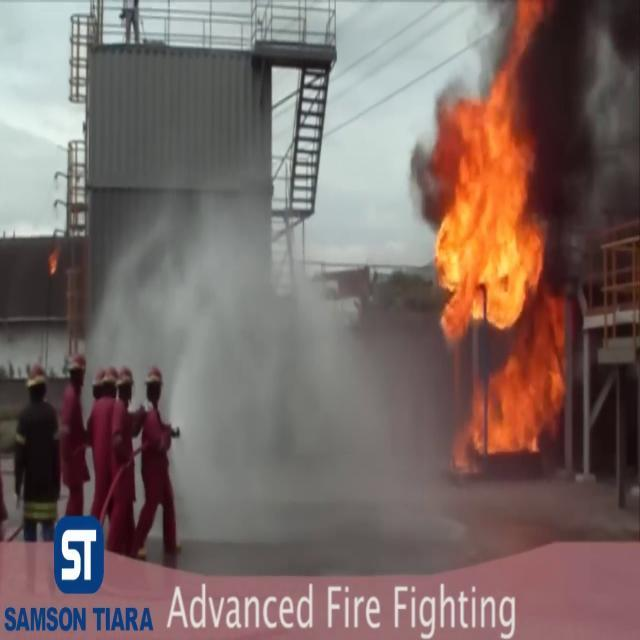Fire: (425, 65, 572, 468)
Smoke: (526, 1, 640, 256)
